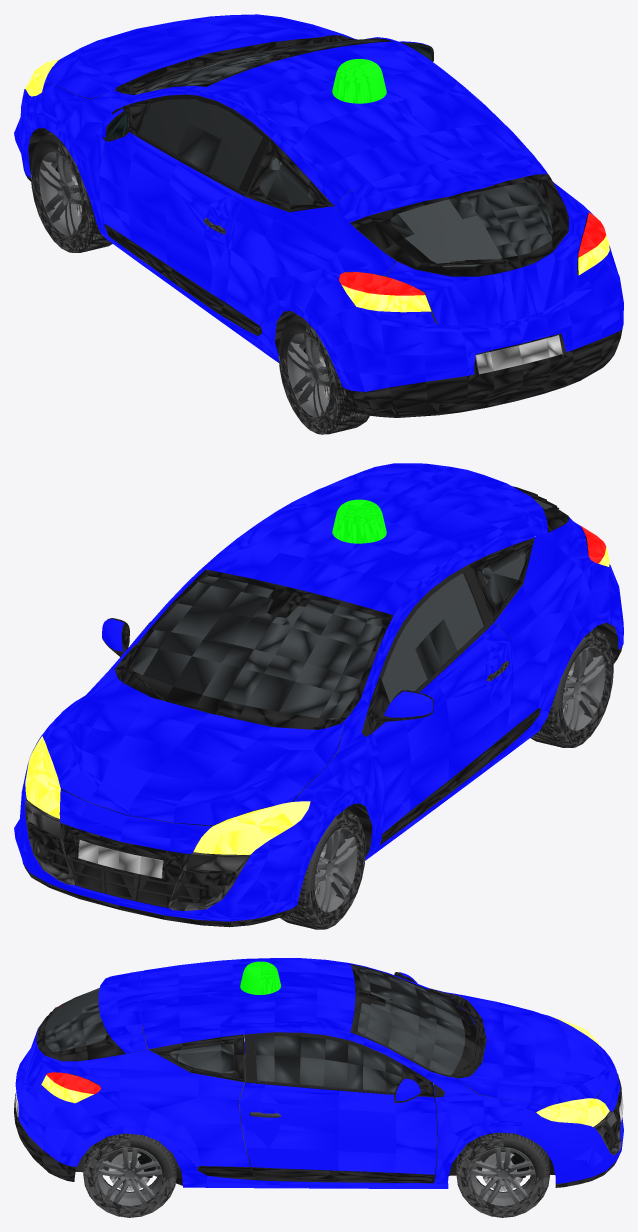
3 views of the same model, one above another, from view 1: azimuth 30°, elevation 25°; view 2: azimuth 150°, elevation 25°; view 3: azimuth 270°, elevation 25° (orthographic). The views are drawn at different scales.
Parts seen in each view (by area): view 1: Body, window, Body_Parts, window_Frame, tire_11, tire_17, tire_12, tire_16, Light_glass, Back_light, Sensors, plate (+2 smaller); view 2: Body, window, Body_Parts, window_Frame, Light_glass, Doorknob, tire_17, tire_11, tire_16, tire_12, Sensors, plate (+1 smaller); view 3: Body, window, Body_Parts, window_Frame, tire_5, tire_9, tire_3, tire_8, Light_glass, Sensors, Window_Frame, Back_light (+3 smaller).
Boxes of the visible parts, x1=… form: Body: x1=14, y1=14, x2=623, y2=391; window: x1=135, y1=38, x2=552, y2=266; Body_Parts: x1=23, y1=35, x2=622, y2=417; window_Frame: x1=131, y1=38, x2=578, y2=276; tire_11: x1=278, y1=314, x2=369, y2=434; tire_17: x1=30, y1=132, x2=112, y2=252; tire_12: x1=287, y1=333, x2=329, y2=417; tire_16: x1=39, y1=151, x2=81, y2=235; Light_glass: x1=25, y1=59, x2=609, y2=312; Back_light: x1=339, y1=212, x2=606, y2=295; Sensors: x1=332, y1=59, x2=386, y2=103; plate: x1=475, y1=335, x2=562, y2=374; Body: x1=14, y1=463, x2=623, y2=921; window: x1=132, y1=498, x2=552, y2=719; Body_Parts: x1=23, y1=486, x2=622, y2=927; window_Frame: x1=122, y1=506, x2=568, y2=729; Light_glass: x1=25, y1=547, x2=609, y2=854; Doorknob: x1=25, y1=660, x2=508, y2=910; tire_17: x1=280, y1=808, x2=365, y2=929; tire_11: x1=530, y1=628, x2=613, y2=747; tire_16: x1=314, y1=828, x2=357, y2=912; tire_12: x1=562, y1=646, x2=605, y2=730; Sensors: x1=332, y1=499, x2=386, y2=543; plate: x1=78, y1=840, x2=163, y2=878; Body: x1=15, y1=958, x2=623, y2=1188; window: x1=45, y1=968, x2=465, y2=1091; Body_Parts: x1=14, y1=972, x2=621, y2=1187; window_Frame: x1=36, y1=964, x2=479, y2=1079; tire_5: x1=456, y1=1132, x2=550, y2=1217; tire_9: x1=83, y1=1133, x2=176, y2=1217; tire_3: x1=470, y1=1147, x2=535, y2=1206; tire_8: x1=97, y1=1147, x2=162, y2=1206; Light_glass: x1=41, y1=1016, x2=609, y2=1126; Sensors: x1=240, y1=961, x2=280, y2=994; Window_Frame: x1=149, y1=1034, x2=402, y2=1092; Back_light: x1=46, y1=1005, x2=101, y2=1094.
Size of the model in its own units: 201 by 157 by 430.
27 materials, 2 textured.
